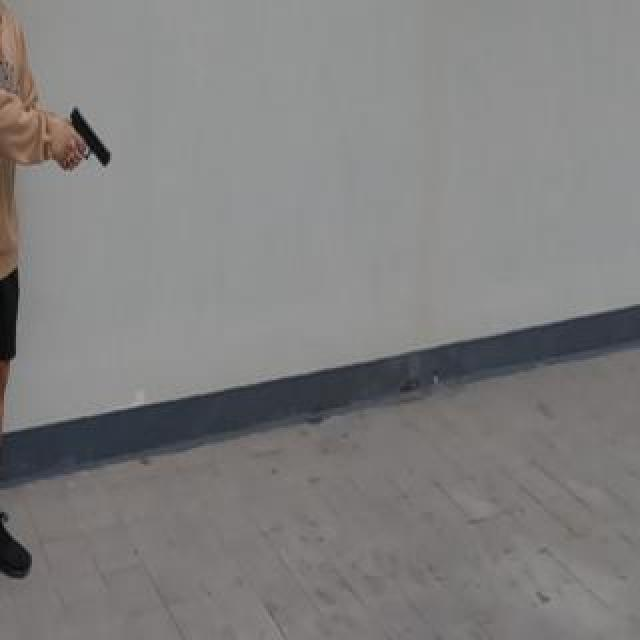Guns: (48, 98, 126, 181)
